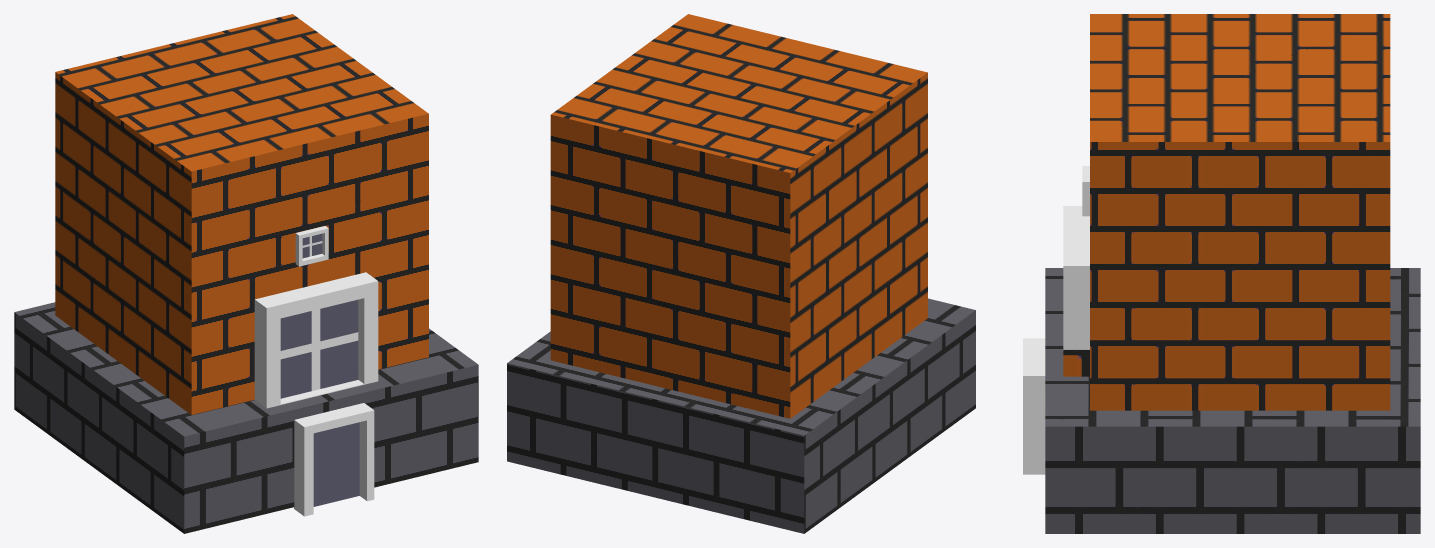
File: shapes_square.fbx
3 renders of one model, left to right at view 1: azimuth 30°, elevation 25°; view 2: azimuth 150°, elevation 25°; view 3: azimuth 270°, elevation 25°, orthographic. The views are drawn at different scales.
Parts seen in each view (by area): view 1: pCube24; view 2: pCube24; view 3: pCube24.
Boxes of the visible parts, x1,y1,x2,y2 form: pCube24: (14, 14, 478, 533); pCube24: (507, 14, 975, 533); pCube24: (1023, 14, 1420, 533).
Bounding box in the file's own units: 9.91 × 11.03 × 10.99.
Materials: 1 (1 with a texture image).
